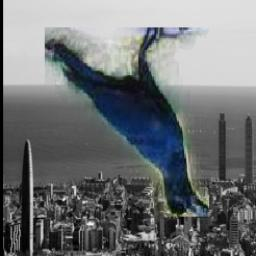Crow: (45, 29, 209, 218)
